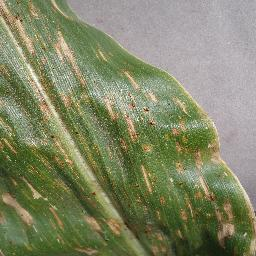Gray_Leaf_Spot: (183, 93, 251, 256), (0, 0, 56, 121), (45, 24, 94, 83), (98, 91, 140, 150), (0, 176, 41, 226), (132, 157, 170, 204), (50, 78, 90, 117), (44, 133, 84, 171), (150, 207, 181, 256), (165, 112, 190, 157), (68, 234, 109, 256), (87, 215, 132, 234), (139, 89, 162, 125), (50, 206, 66, 247), (120, 65, 142, 92), (172, 86, 186, 118), (0, 136, 22, 156), (90, 48, 111, 67), (89, 189, 105, 211), (19, 239, 41, 255)
